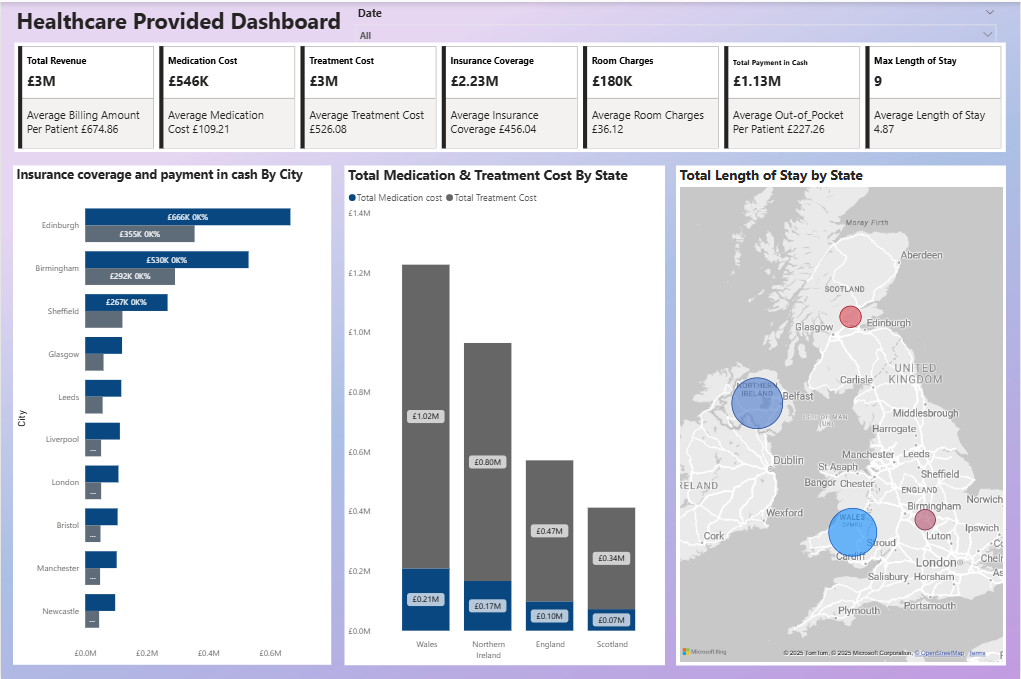

This screenshot's page, from the dashboard's own definition file:
{"tool":"powerbi","page":{"name":"Demographic Overview","canvas":[1500,1000],"ordinal":2},"visuals":[{"type":"clusteredBarChart","title":"Insurance coverage and payment in cash By City","fields":{"Category":["cities.City"],"Y":["All Measures.Total Insurance Coverage","All Measures.Total Payment in cash"]},"box":[17.7,240.8,468.3,735.7],"z":0},{"type":"lineStackedColumnComboChart","title":"Total Medication & Treatment Cost By State","fields":{"Category":["cities.State"],"Y":["All Measures.Total Medication cost","All Measures.Total Treatment Cost"]},"box":[505.5,239.7,472.3,735.8],"z":1000},{"type":"textbox","box":[17.2,0,517.3,59.4],"z":2000},{"type":"slicer","fields":{"Values":["Date Table.Year","Date Table.Qtr","Date Table.Month","Date Table.WeekType"]},"box":[512.5,0,963.2,59.6],"z":3000},{"type":"cardVisual","fields":{"Data":["All Measures.Total Billing Amount","All Measures.Total Medication cost","All Measures.Total Treatment Cost","All Measures.Total Insurance Coverage","All Measures.Total Room Charges","All Measures.Total Payment in cash","All Measures.Total Length of Stay"]},"box":[19.9,59.6,1460.3,161.3],"z":4000},{"type":"map","fields":{"Category":["cities.City","cities.State"],"Size":["All Measures.Total Length of Stay"]},"box":[994.1,240.8,486,735.7],"z":5000}]}

Visuals, with their boxes in screenshot pixels (x1, y1, x2, y2), scaled from the page's 1500x1000 canvas onto the 1021x679 screenshot:
"Insurance coverage and payment in cash By City" clusteredBarChart: crop(12, 164, 331, 663)
"Total Medication & Treatment Cost By State" lineStackedColumnComboChart: crop(344, 163, 666, 662)
textbox: crop(12, 0, 364, 40)
slicer - Date Table.Year x Date Table.Qtr: crop(349, 0, 1004, 40)
cardVisual - All Measures.Total Billing Amount x All Measures.Total Medication cost: crop(14, 40, 1008, 150)
map - cities.City x cities.State: crop(677, 164, 1007, 663)
